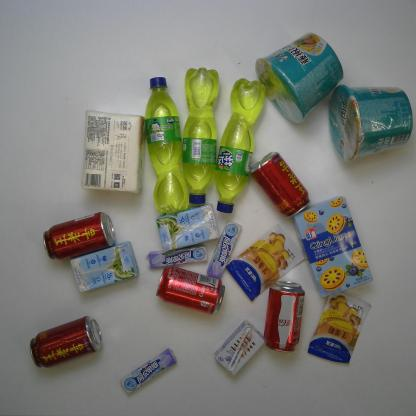Candy: (119, 347, 177, 395), (208, 221, 242, 279), (148, 246, 208, 268)
Dessert: (292, 196, 373, 297)
Drink: (216, 78, 266, 213), (145, 77, 190, 213), (182, 67, 220, 202), (252, 151, 310, 218), (30, 316, 103, 366), (155, 266, 227, 316), (43, 212, 115, 258), (262, 282, 306, 354)
Instant Noodles: (255, 32, 343, 124), (328, 86, 413, 163)
Milk: (69, 241, 139, 292), (154, 203, 219, 252), (214, 320, 265, 378)
Seasoner: (225, 224, 306, 302), (308, 286, 372, 364)
Tissue: (82, 109, 147, 194)
